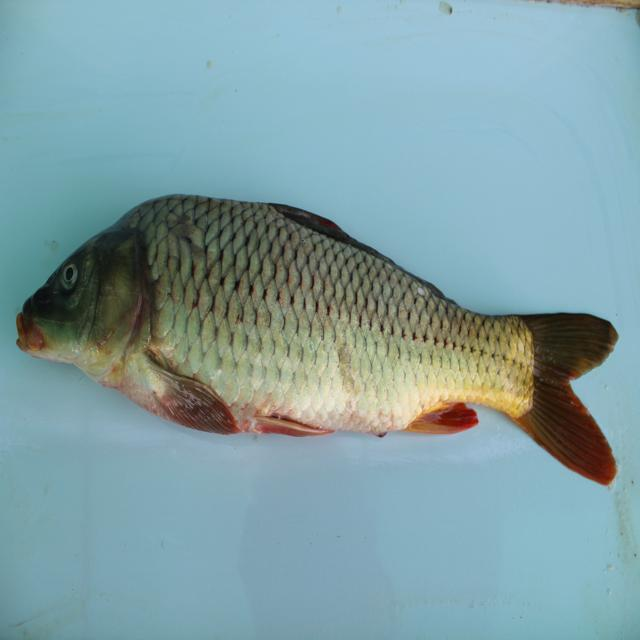CommonCarp: (13, 179, 640, 513)
